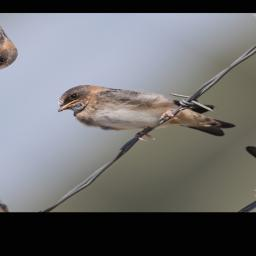Swallow: (44, 54, 245, 173)
